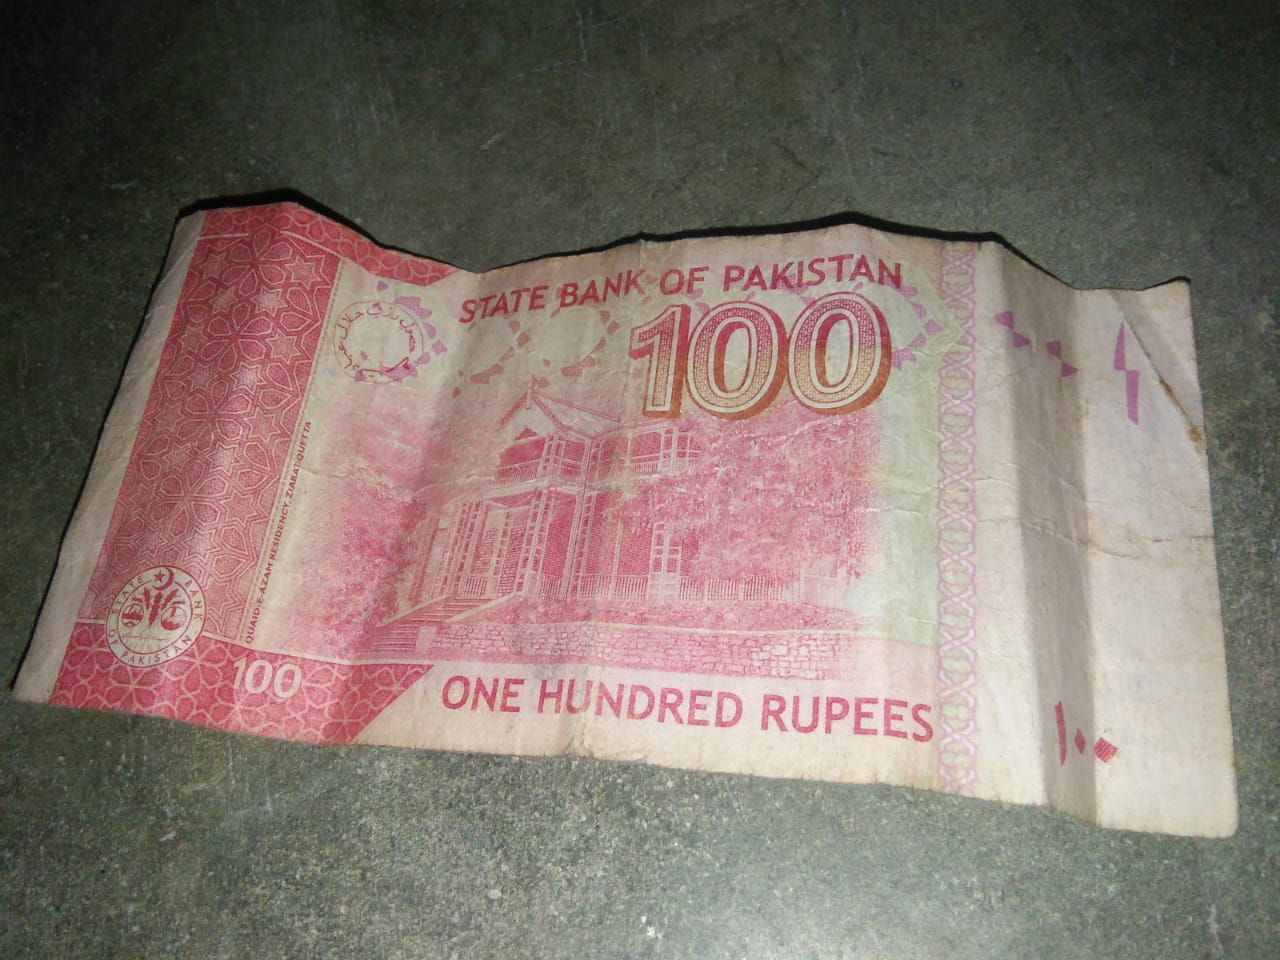100 rupee: (13, 178, 1265, 860)
